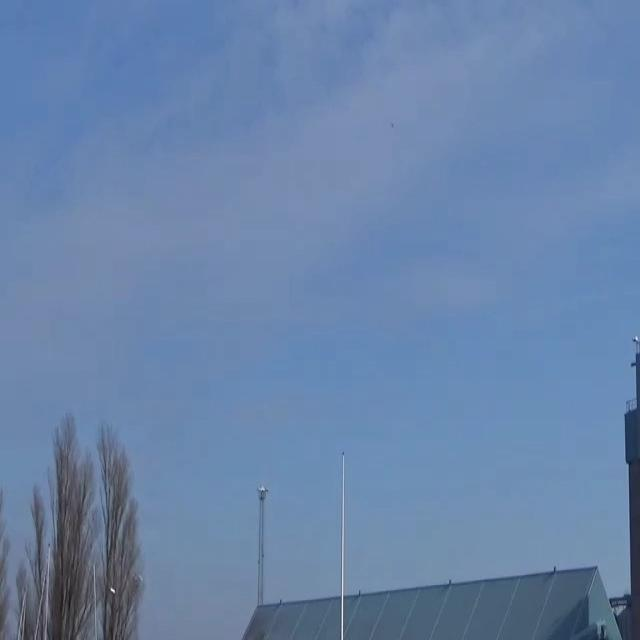bird: (389, 119, 398, 132)
